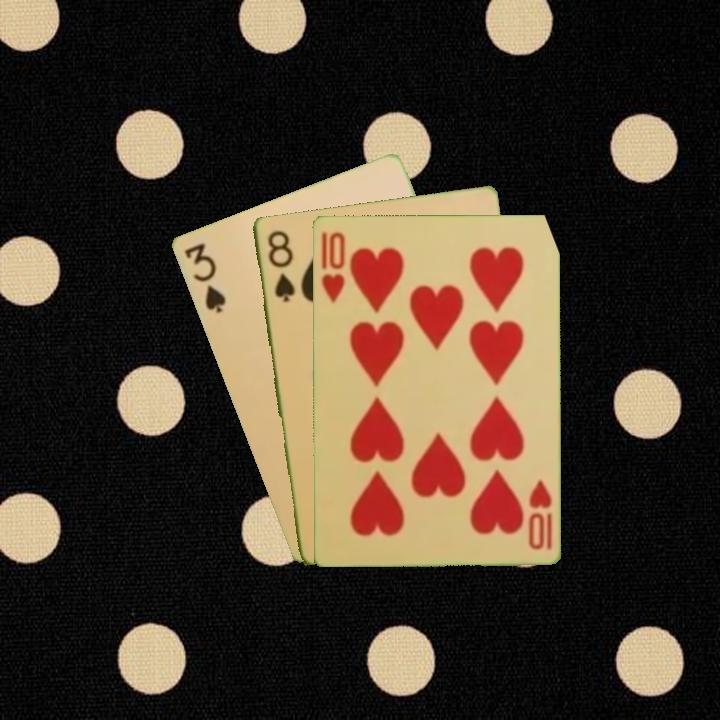10h: (318, 228, 348, 305), (524, 476, 554, 552)
3s: (180, 239, 229, 316)
8s: (264, 226, 297, 305)
